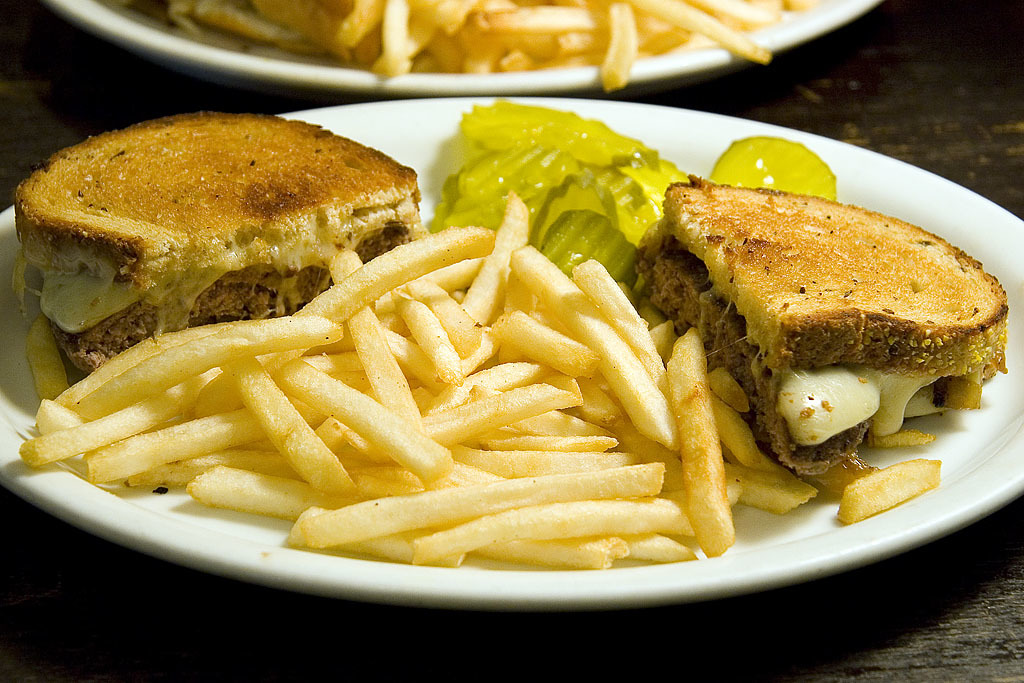French fries: (10, 185, 956, 579), (158, 0, 819, 86)
